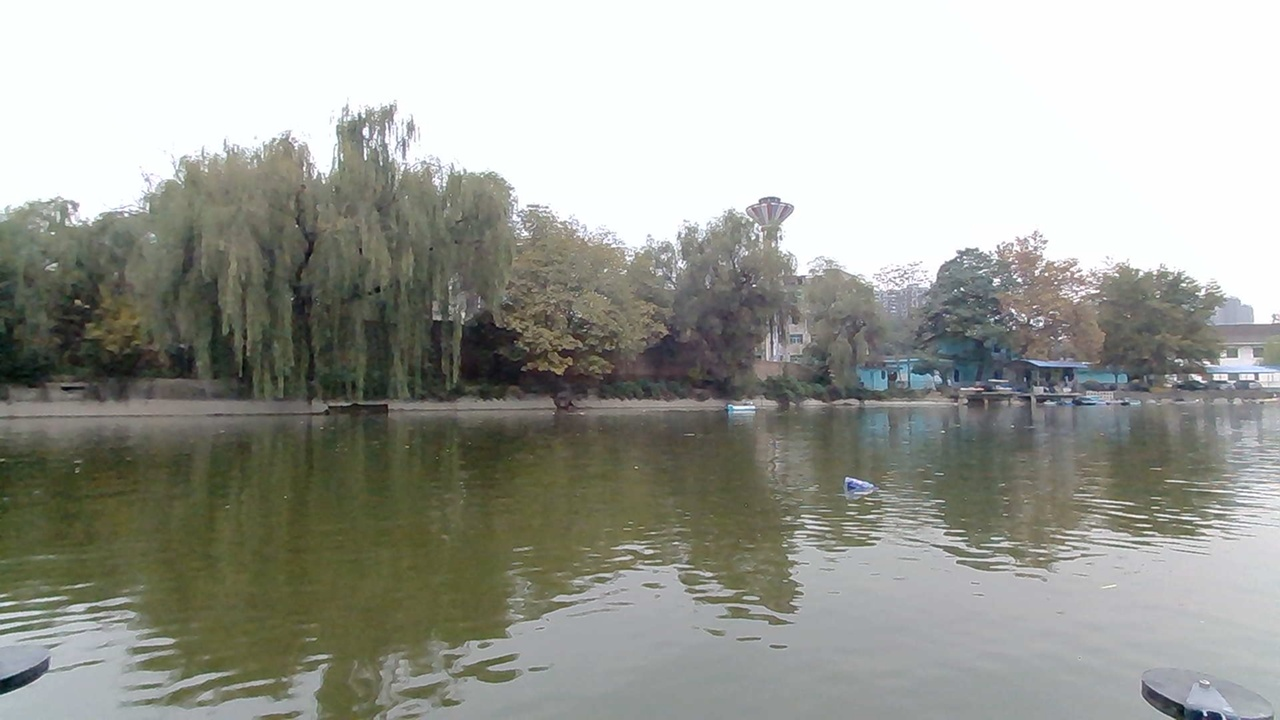bottle: (839, 472, 884, 506)
